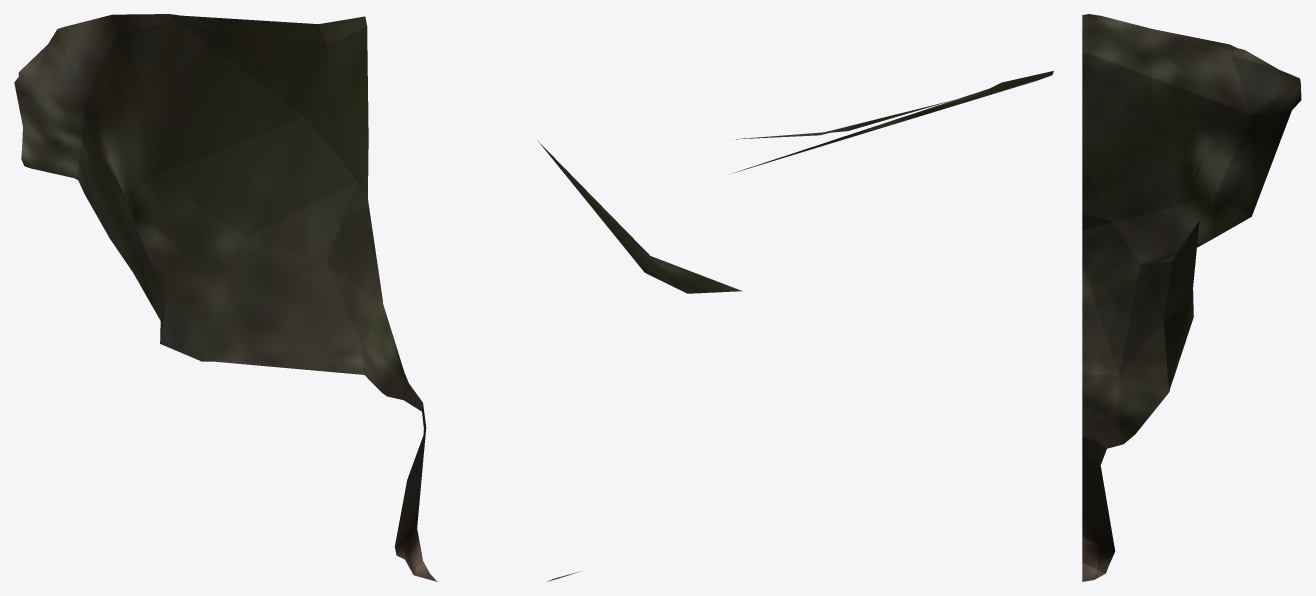
3 renders of one model, left to right at view 1: azimuth 30°, elevation 25°; view 2: azimuth 150°, elevation 25°; view 3: azimuth 270°, elevation 25°, orthographic. The views are drawn at different scales.
Size of the model in its own units: 0.3841 by 0.4597 by 0.2233.
1 material, 1 textured.
